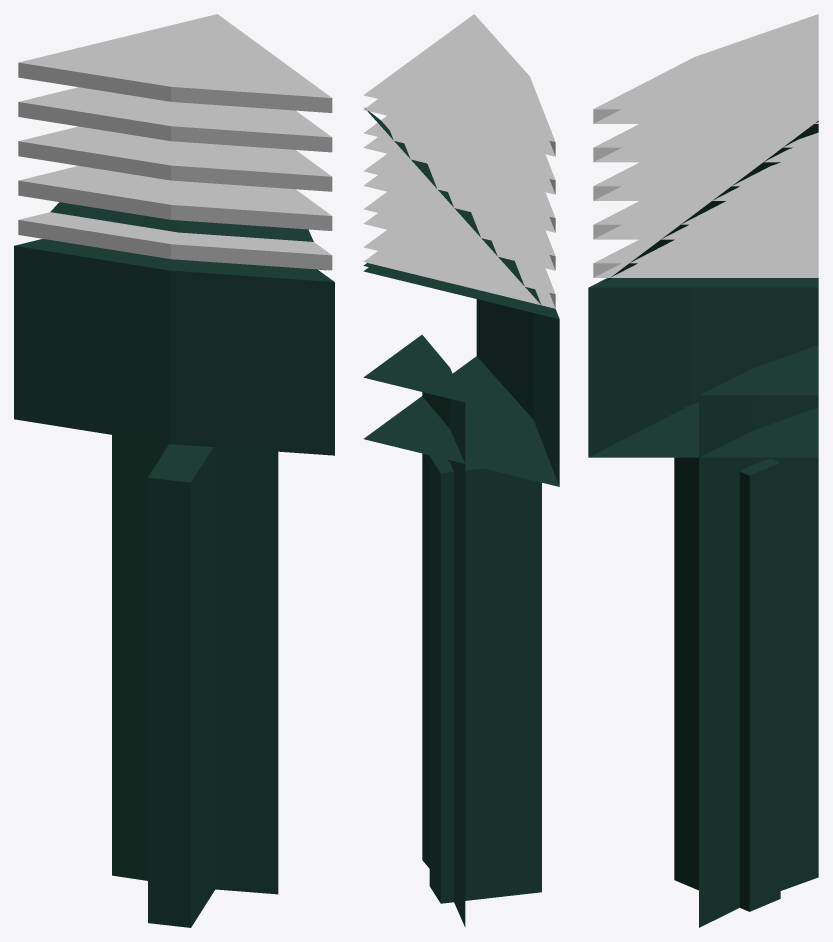
The model's file is cell_51.obj.
The picture shows the model from 3 angles, left to right: view 1: azimuth 30°, elevation 25°; view 2: azimuth 150°, elevation 25°; view 3: azimuth 270°, elevation 25°; orthographic projection. The views are drawn at different scales.
Size of the model in its own units: 0.184 by 0.7225 by 0.184.
